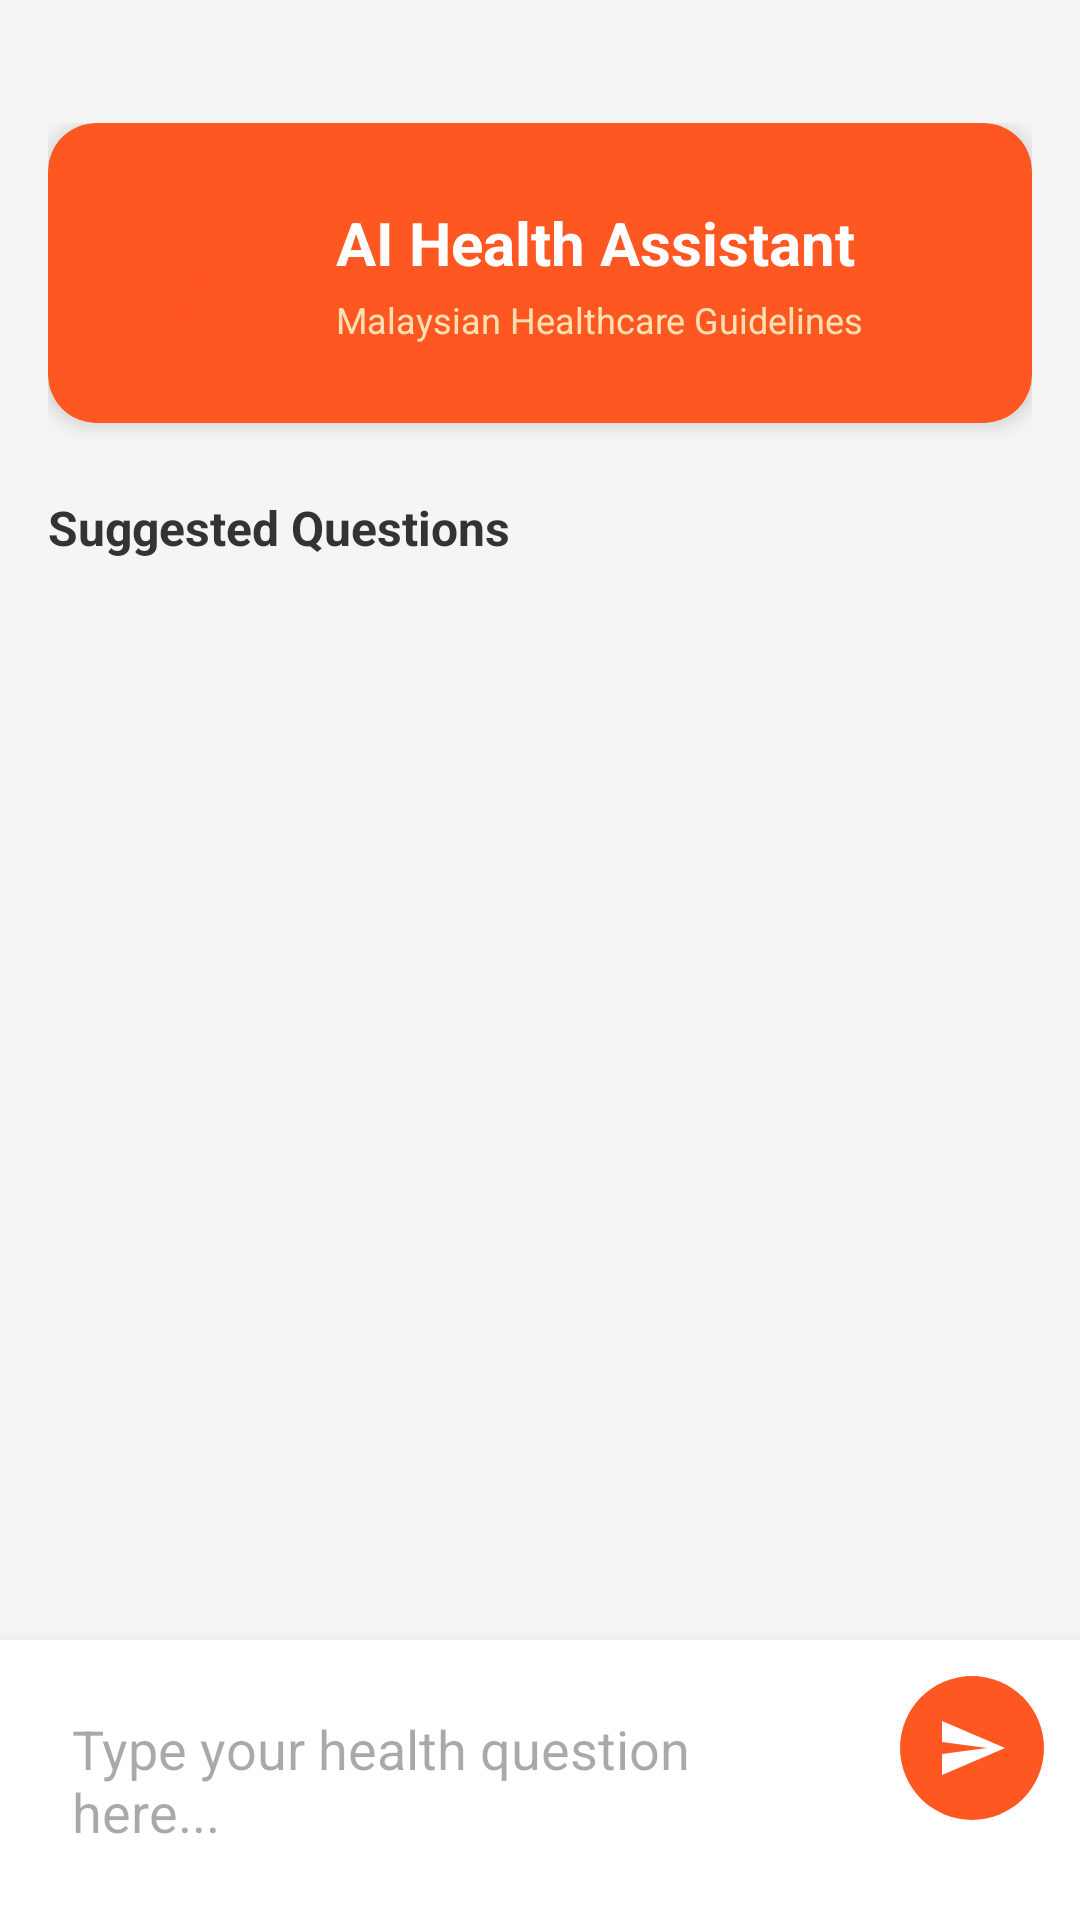

Screen size 1080w x 1920h. Icon name, then its box in pixels as {"left": x1, "top": y1, "right": x2, "bottom": y2}:
Send Message: {"left": 900, "top": 1676, "right": 1044, "bottom": 1820}
